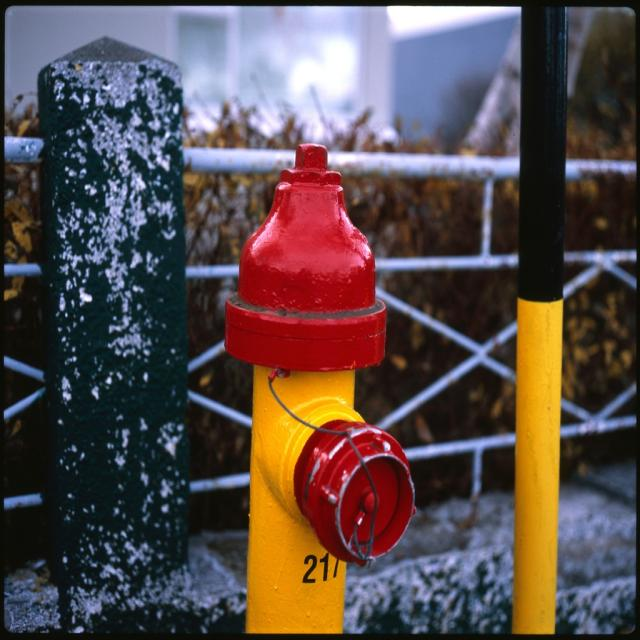fire_hydrant: (221, 142, 415, 639)
